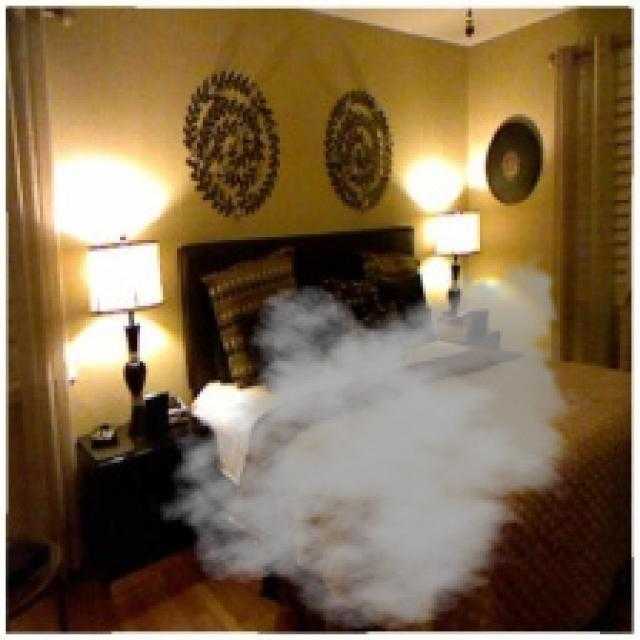Smoke: (157, 246, 583, 632)
